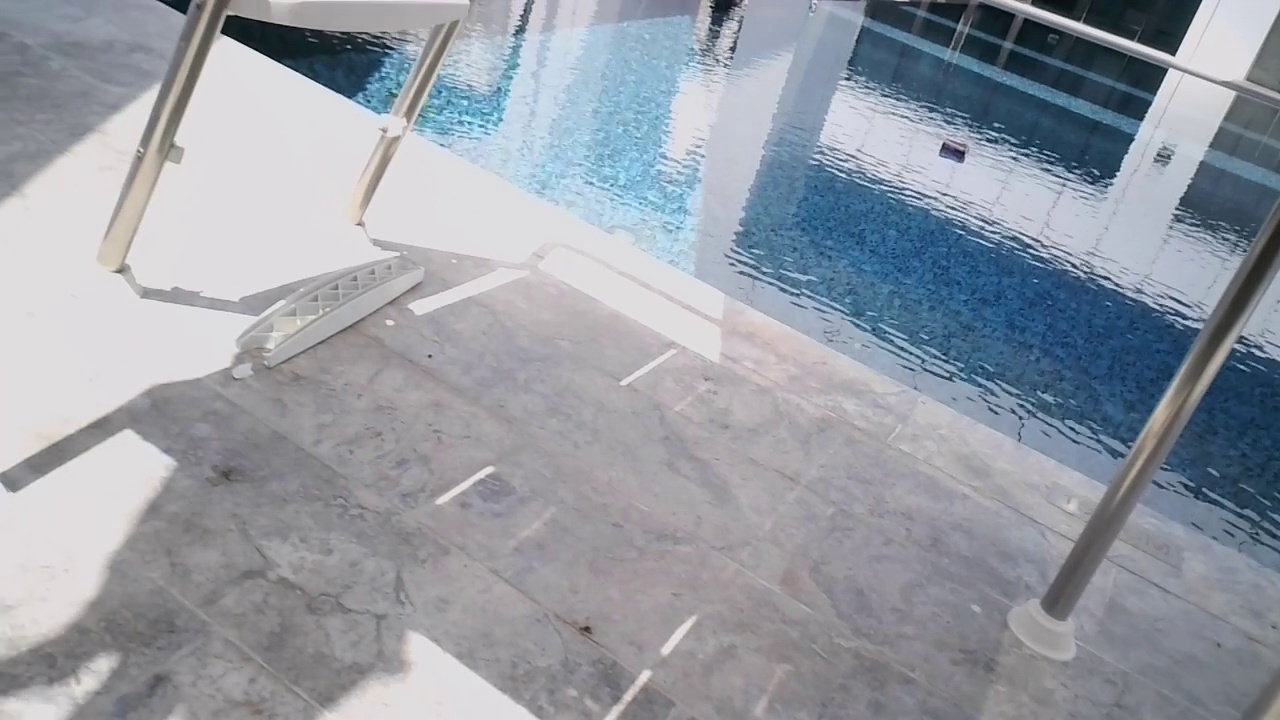debris: (938, 133, 970, 166), (1044, 29, 1063, 45)
